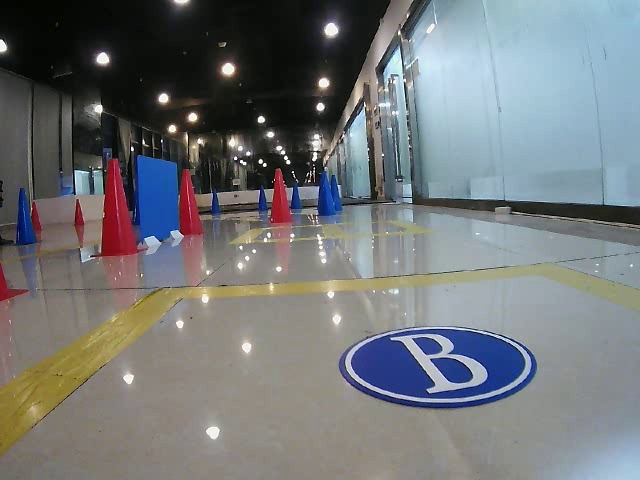B: (347, 323, 534, 407)
